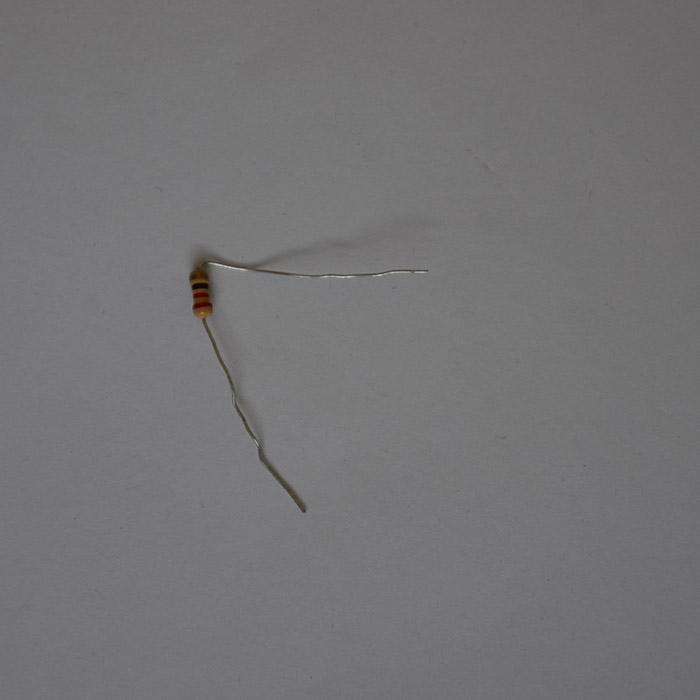resistor: (189, 267, 213, 320)
